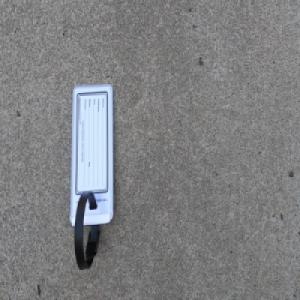LuggageTag: (68, 82, 116, 274)
